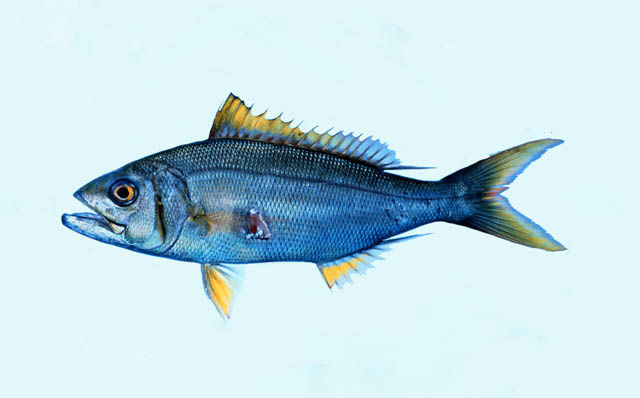fish: (62, 95, 570, 319)
